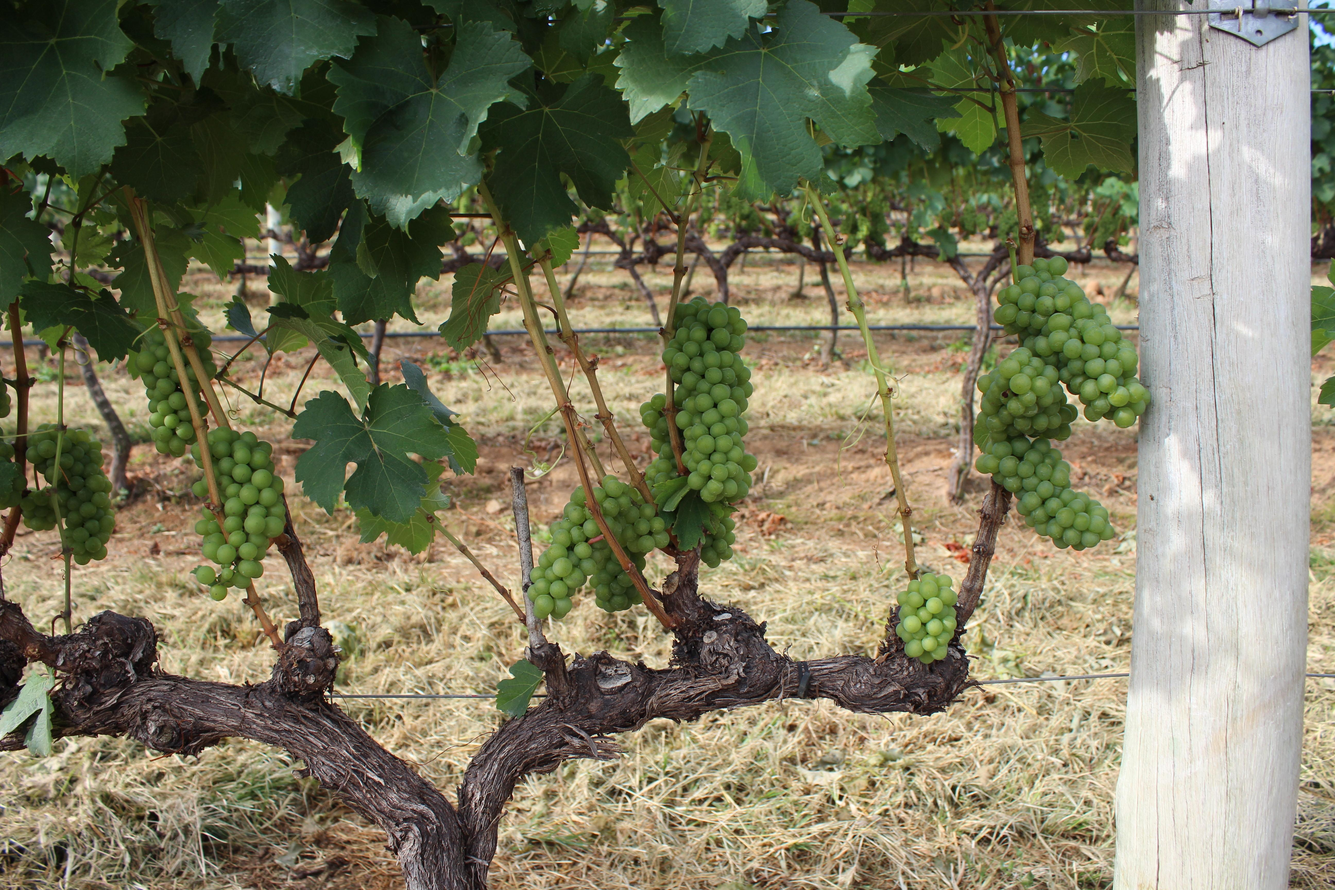leaf: (617, 0, 880, 199), (329, 17, 530, 228), (480, 74, 634, 244), (0, 0, 145, 176), (293, 383, 452, 522), (328, 200, 455, 324), (215, 0, 376, 94), (1022, 81, 1136, 178), (273, 118, 354, 243), (20, 280, 139, 361), (400, 360, 478, 474), (356, 462, 450, 554), (111, 118, 203, 204), (869, 81, 960, 151), (439, 263, 511, 350), (0, 187, 52, 306), (658, 0, 767, 55), (148, 0, 219, 83), (1054, 17, 1135, 86), (0, 672, 55, 757), (108, 240, 158, 321), (496, 660, 544, 717), (154, 226, 193, 291), (1311, 286, 1335, 355), (1318, 376, 1335, 407), (635, 117, 638, 119), (609, 16, 610, 18)
